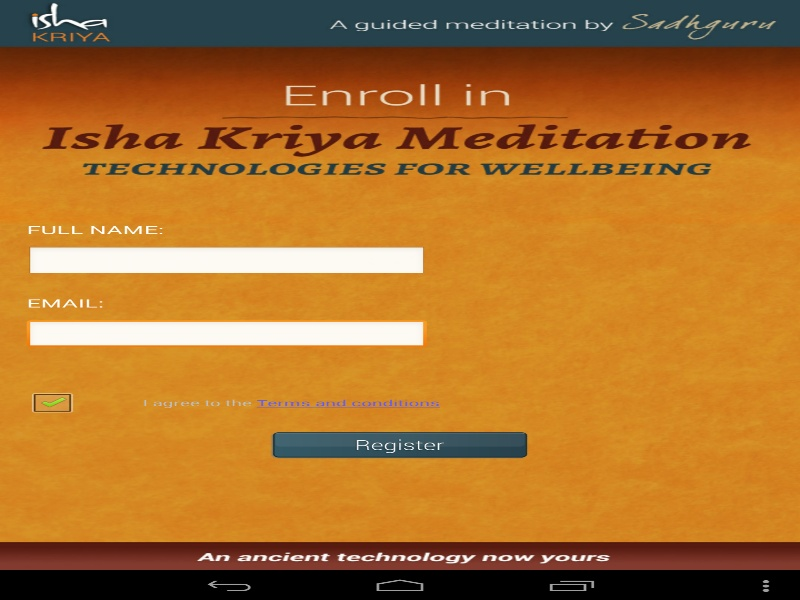Button: (266, 430, 533, 461)
Input: (26, 246, 426, 276), (26, 320, 426, 350)
